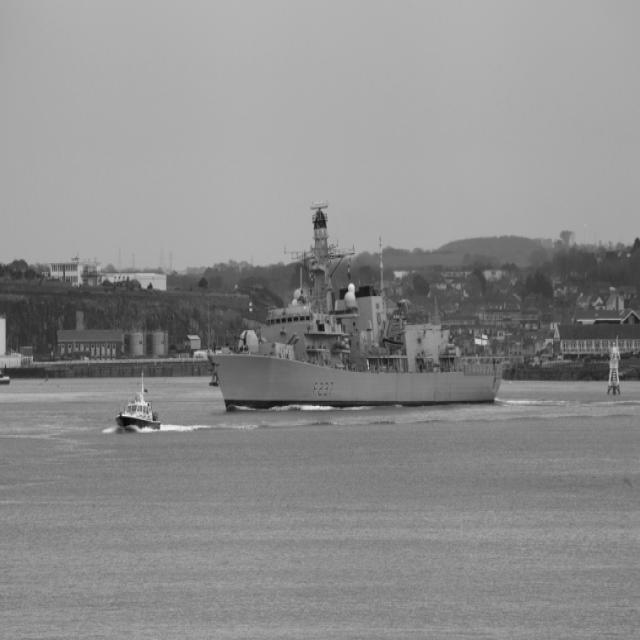Fragata: (208, 203, 511, 417)
